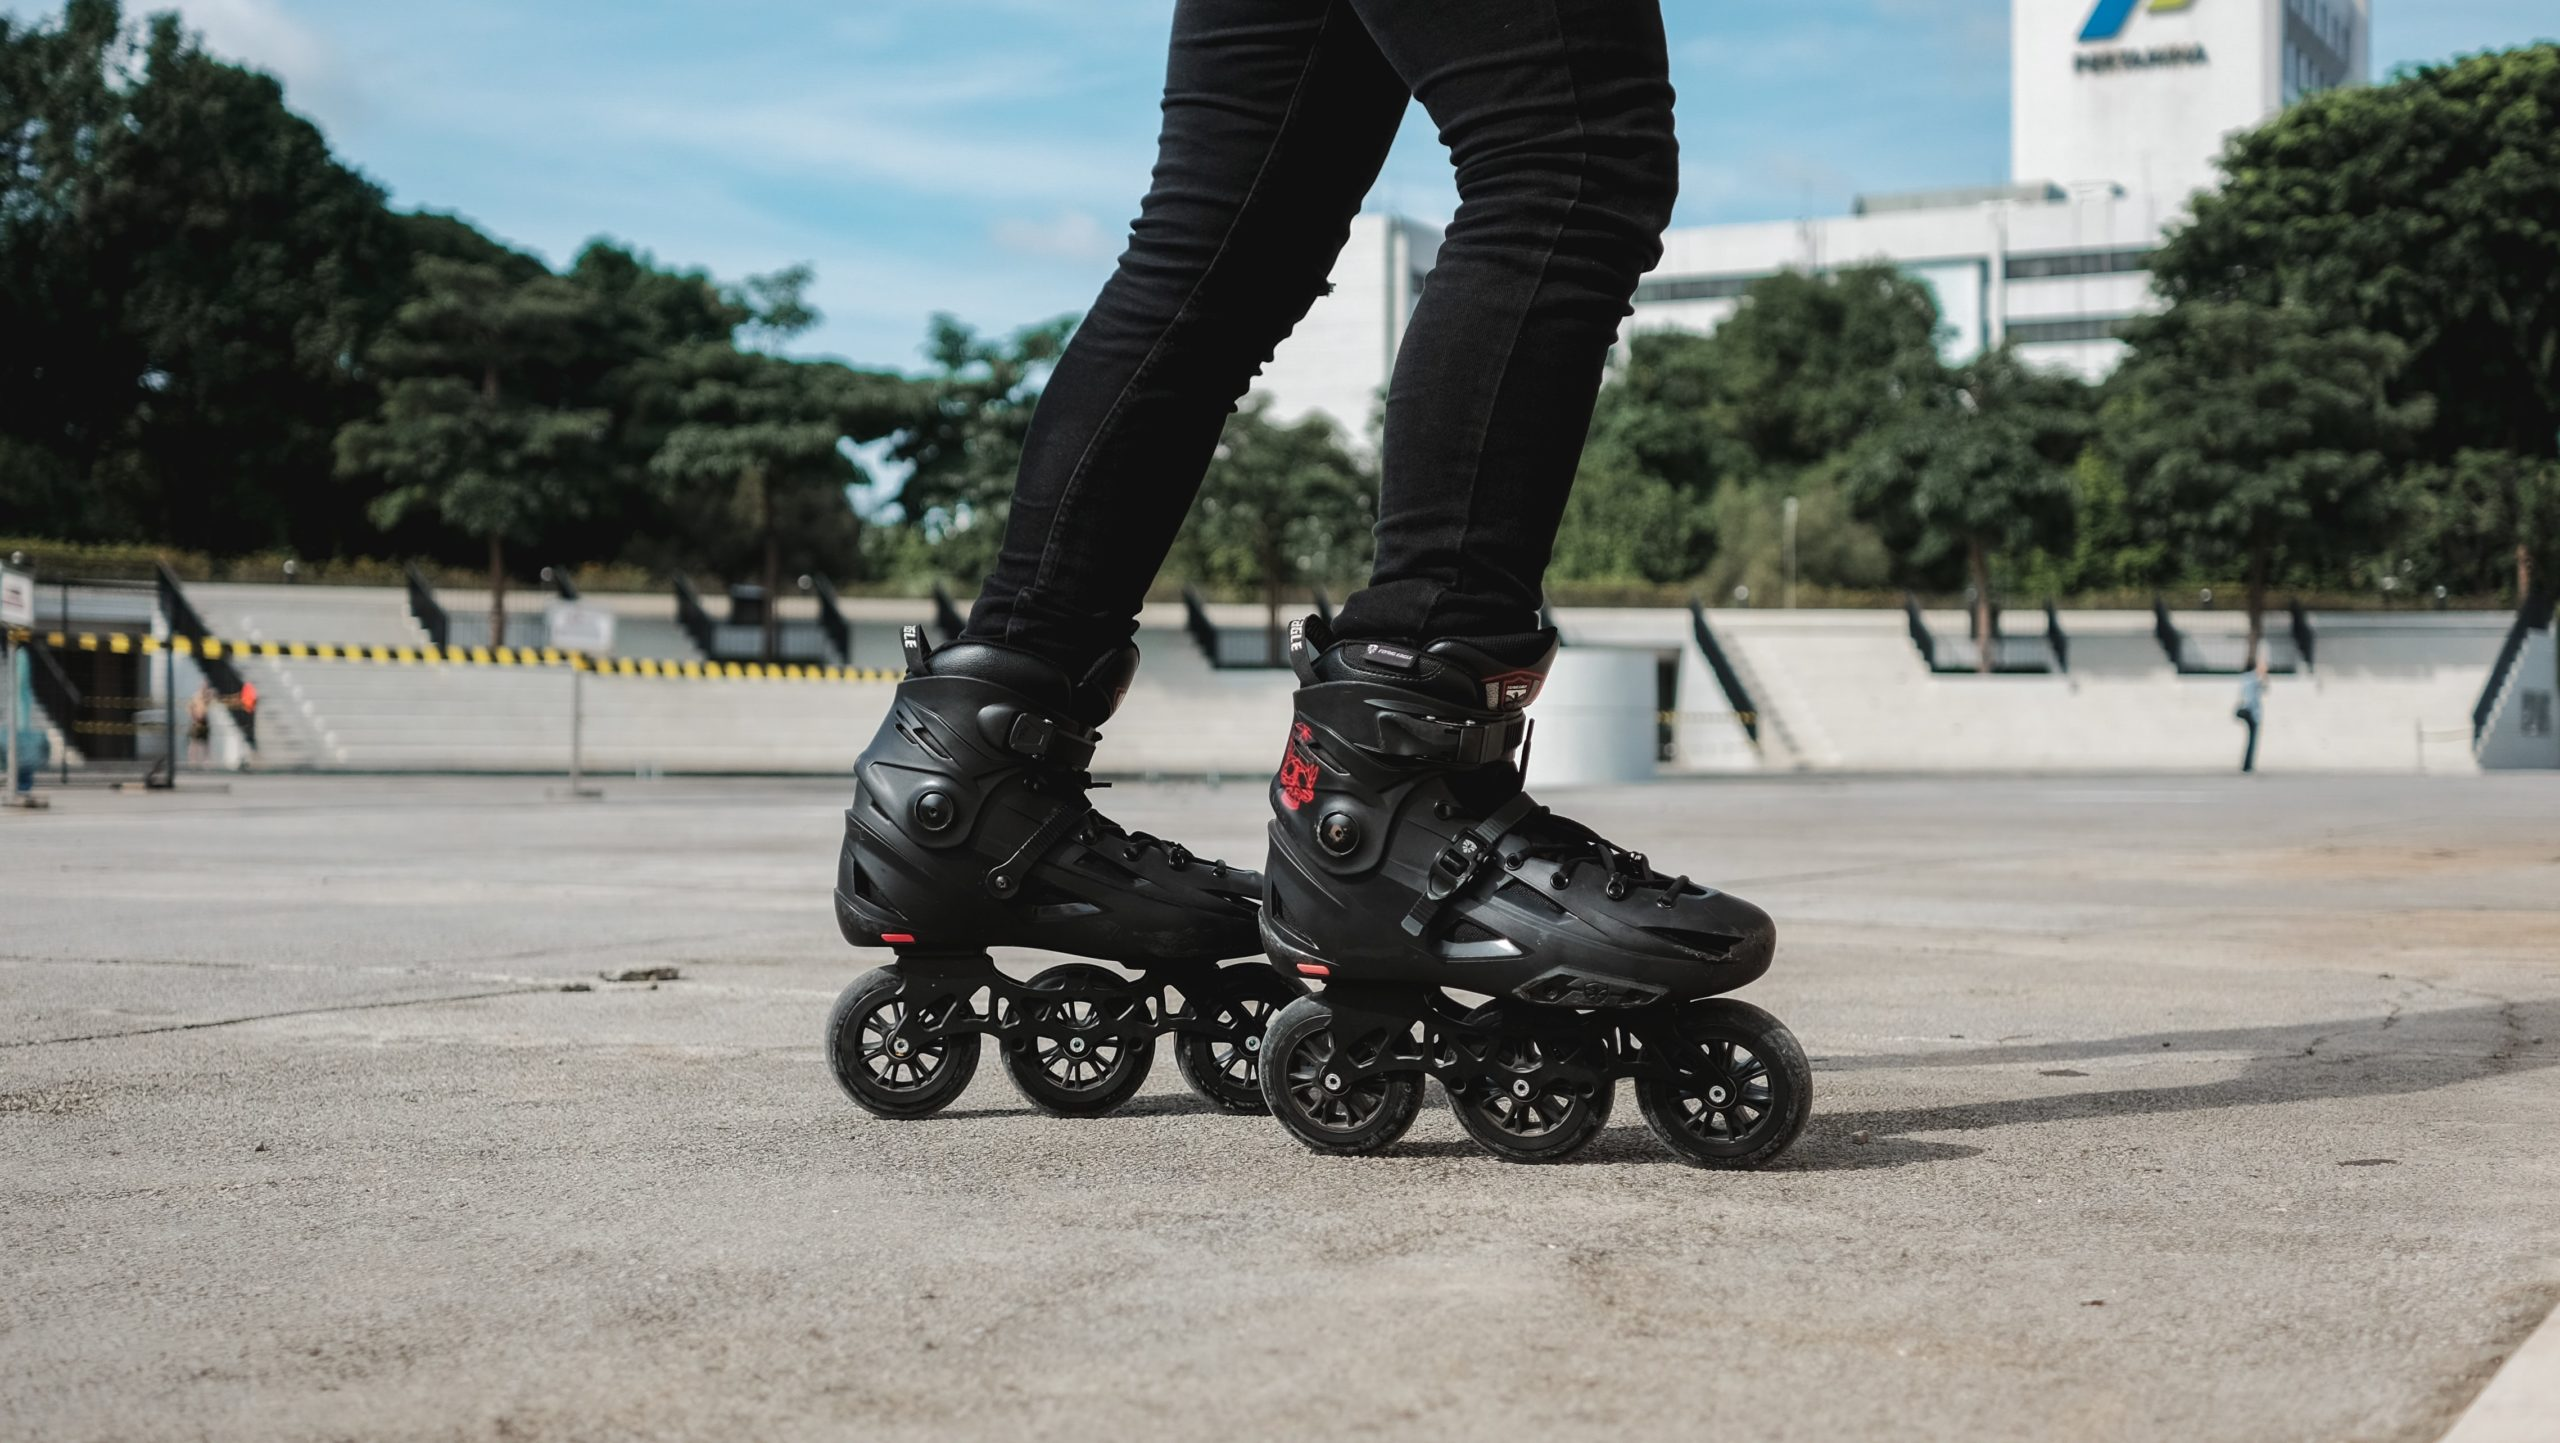roller_blade: (1271, 613, 1818, 1162), (828, 626, 1254, 1111)
